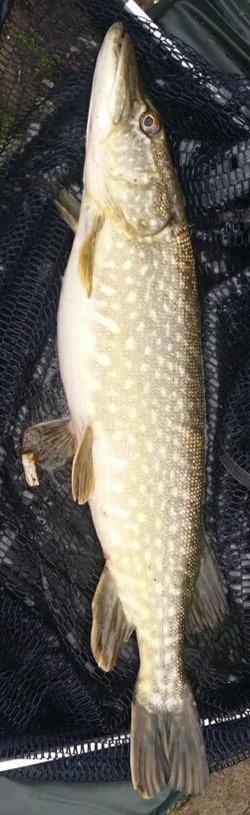Esox lucius: (20, 20, 230, 795)
